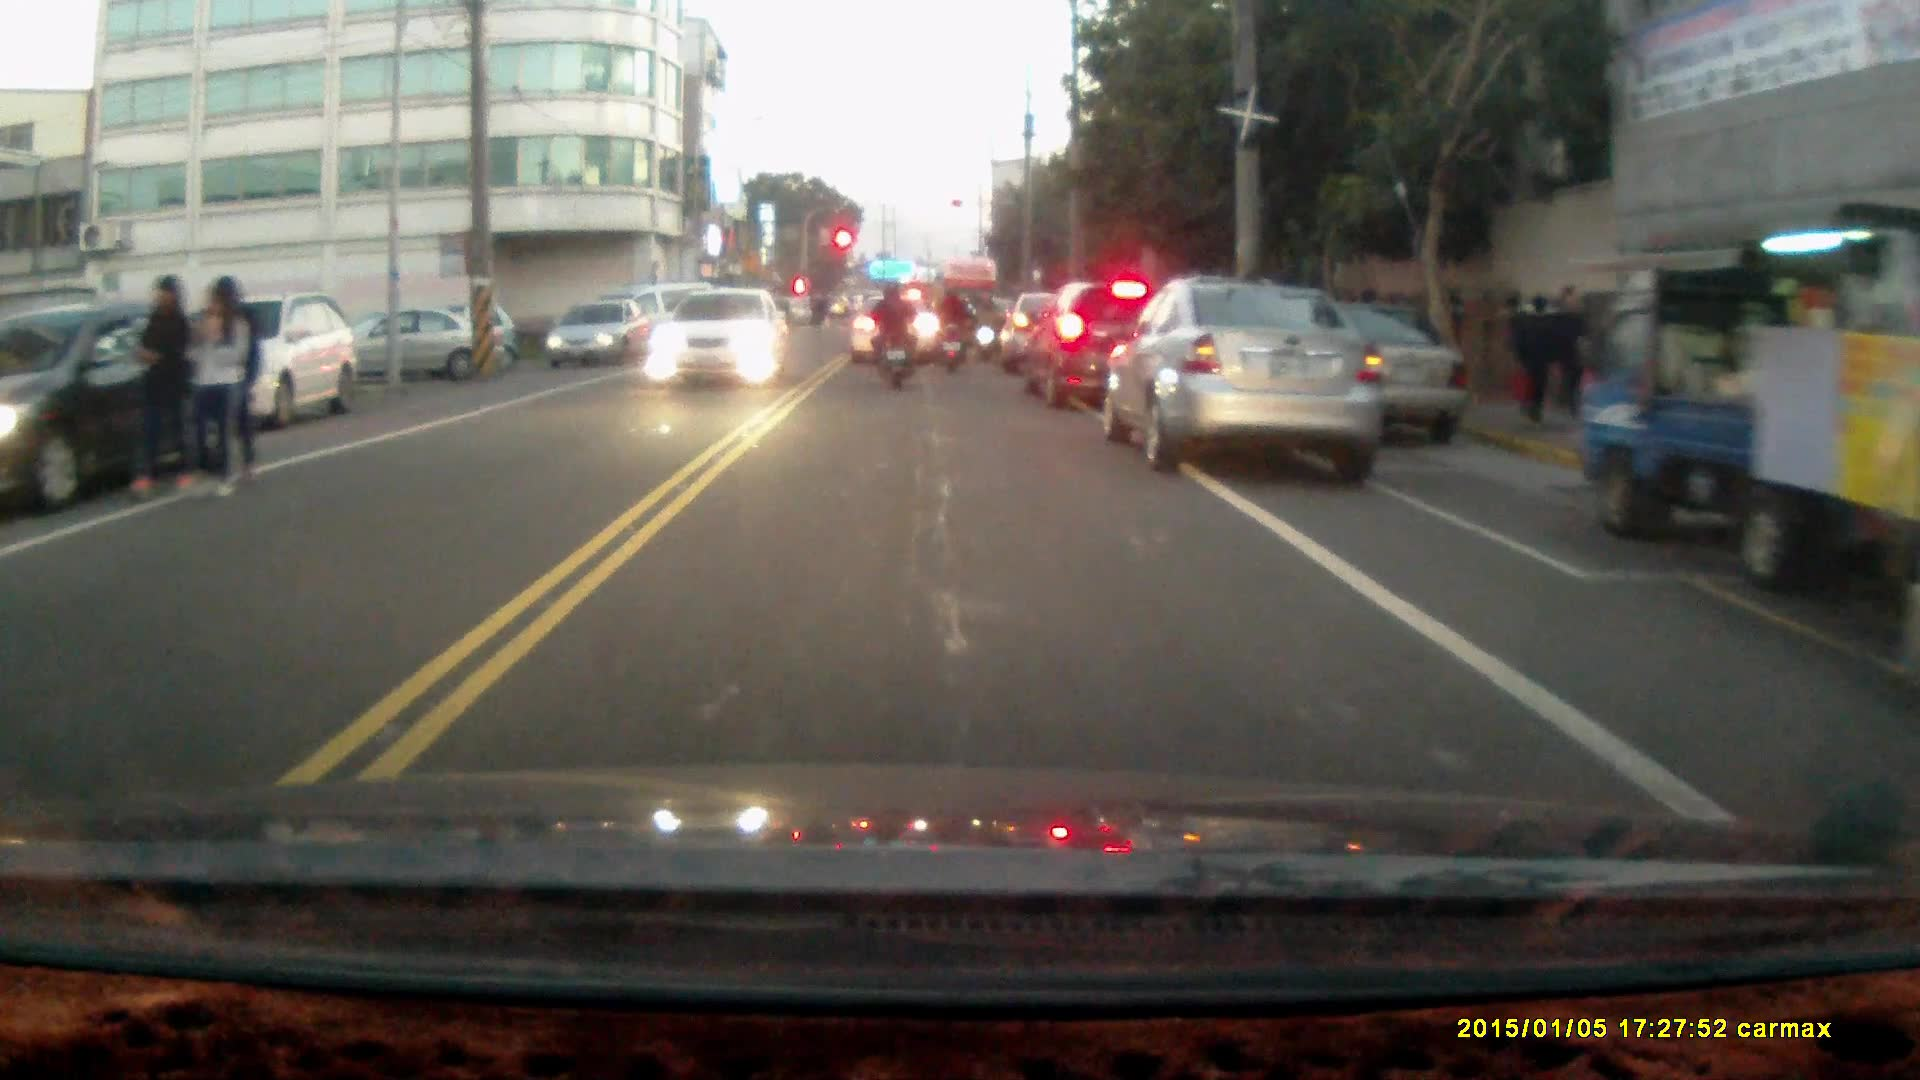pedestrian: (178, 274, 246, 505), (130, 268, 192, 500), (1544, 284, 1592, 426), (1512, 289, 1559, 427)
rider: (867, 278, 915, 391), (930, 279, 975, 374)
vehicle: (1575, 218, 1920, 596), (1, 298, 248, 521), (1111, 277, 1384, 475), (161, 290, 357, 431), (1030, 279, 1172, 410), (643, 287, 785, 386), (544, 299, 645, 366), (851, 293, 943, 363)
